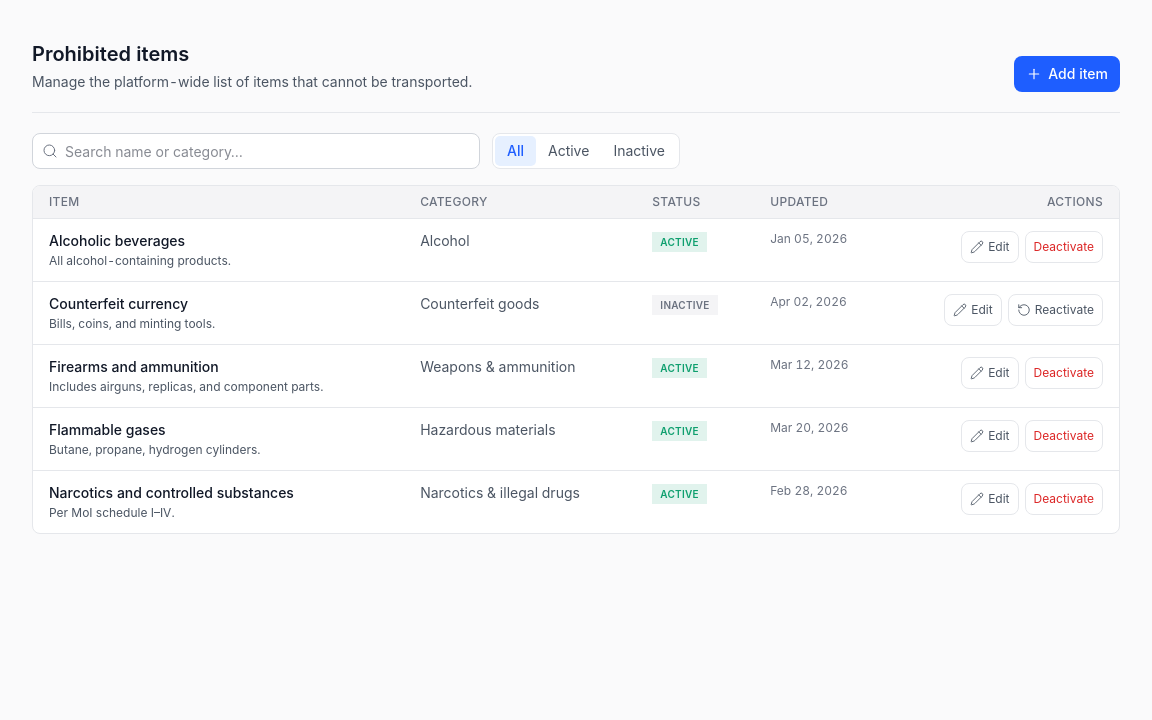
Test: <ProhibitedItemsPage /> › requires confirmation before deactivating
The image size is (1152, 720).
Check: the text "Active" in the row of "Alcoholic beverages" is shown, box [660, 236, 699, 248]
Click the button named "deactivate alcoholic beverages".
click(1064, 247)  # box [1025, 231, 1103, 263]
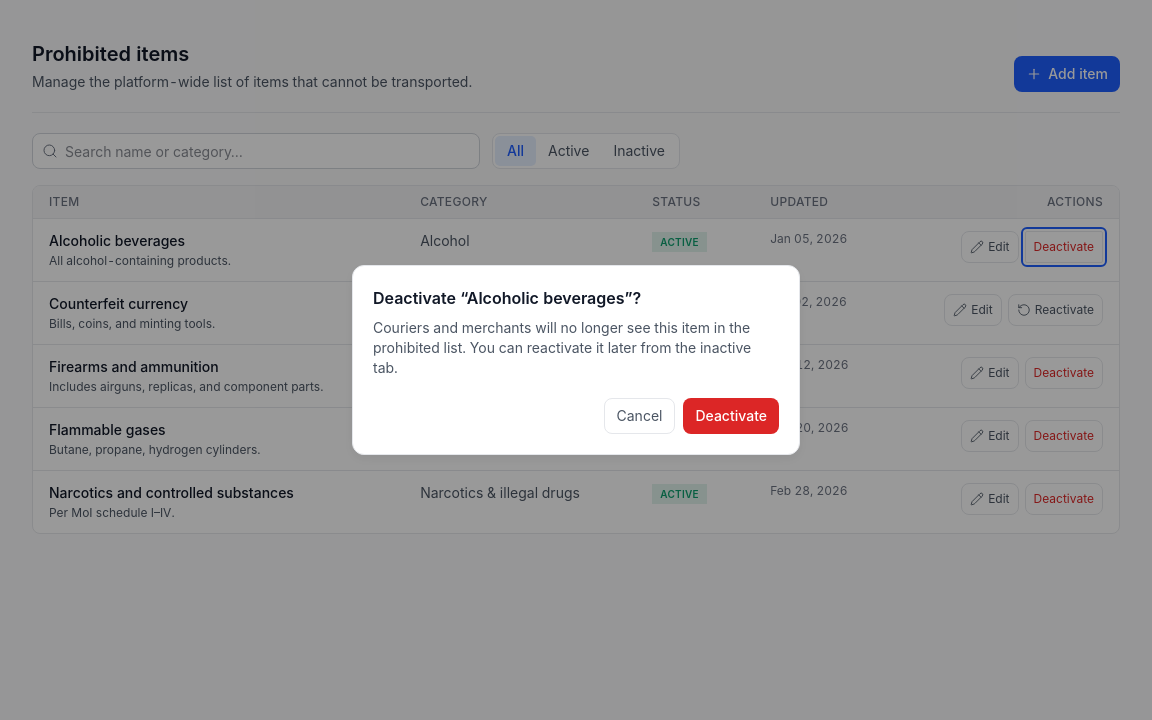
Check: the heading "Deactivate “Alcoholic beverages”?" is shown, box [373, 288, 641, 308]
# Cancel keeps it active.
Click the button "Cancel".
click(639, 416)  # box [604, 398, 675, 434]
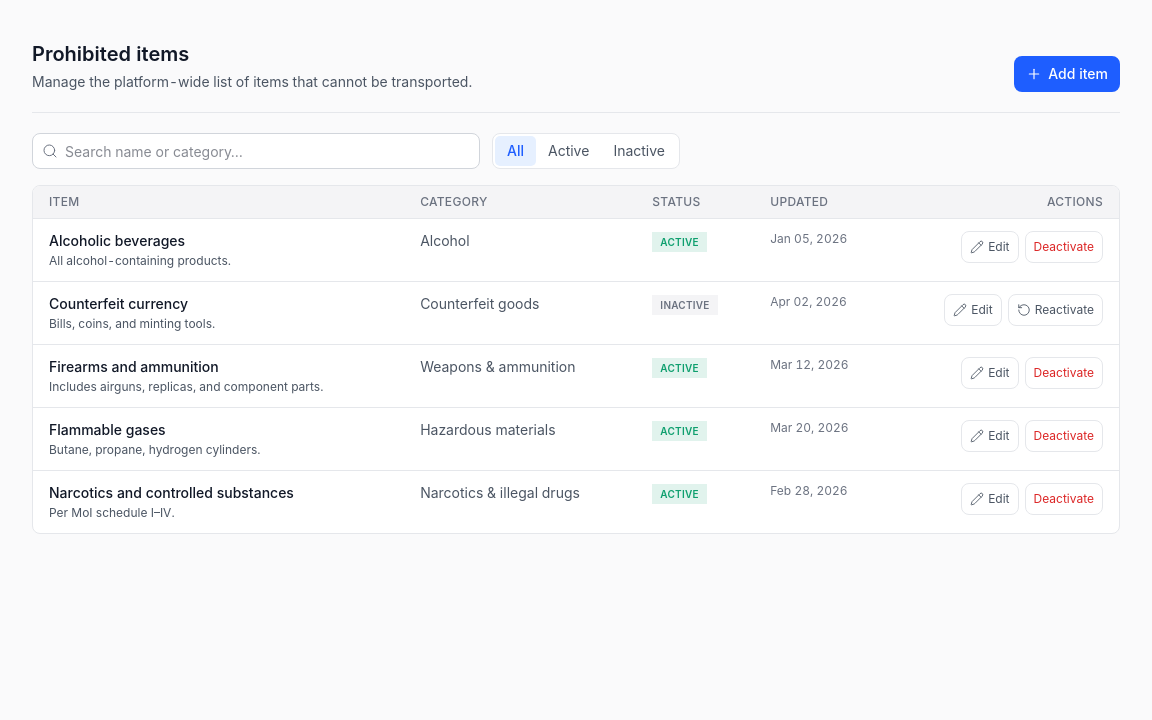
Check: the text "Active" in the row of "Alcoholic beverages" is shown, box [660, 236, 699, 248]
Check: the dialog is gone
# Re-open and confirm.
Click the button named "deactivate alcoholic beverages".
click(1064, 247)  # box [1025, 231, 1103, 263]
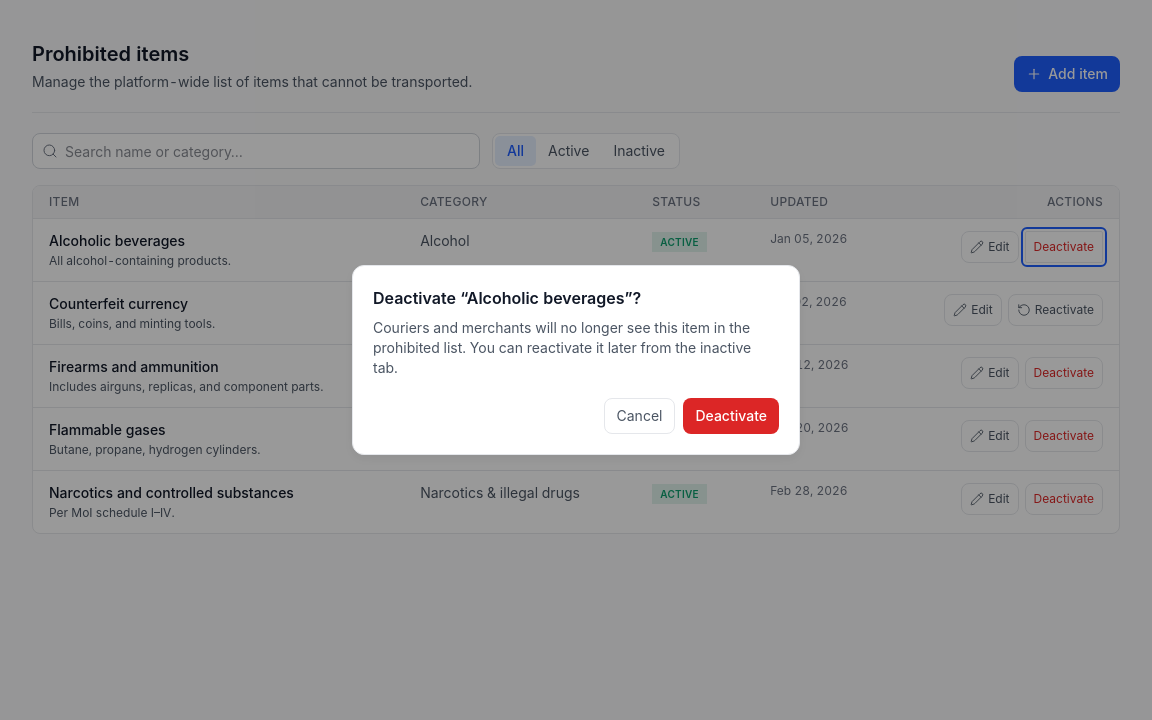
Click the button "Deactivate".
click(731, 416)  # box [684, 398, 779, 434]
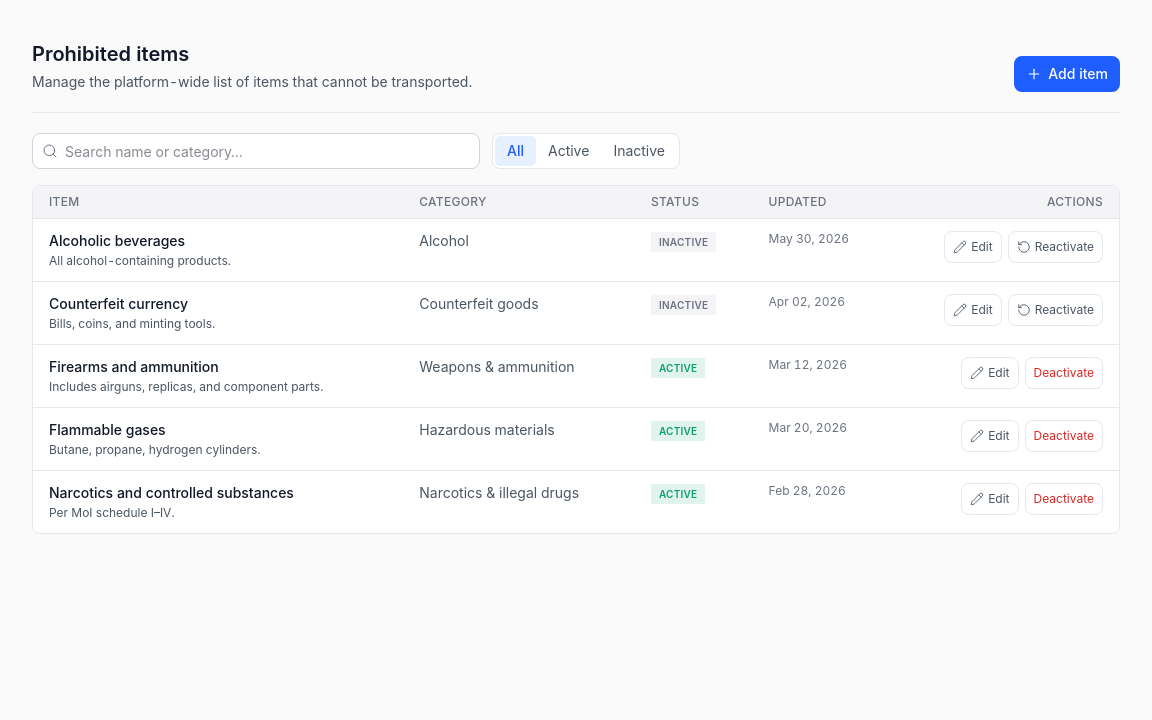
Check: the dialog is gone
Check: the text "Inactive" in the row of "Alcoholic beverages" is shown, box [659, 236, 708, 248]
